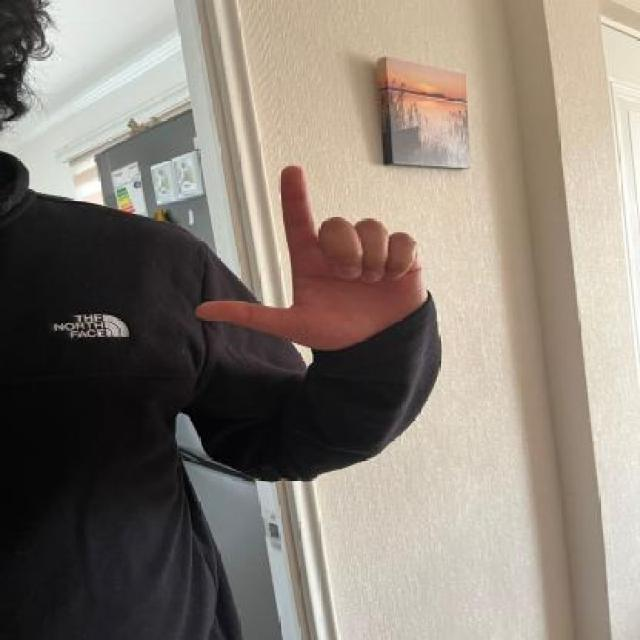L: (191, 161, 452, 365)
